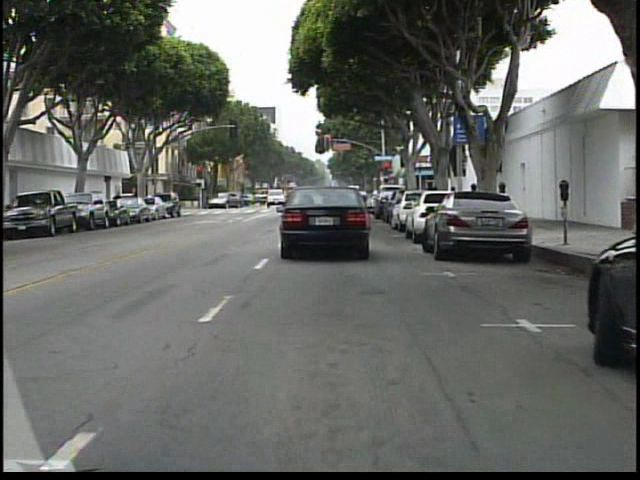person: (112, 189, 126, 219)
